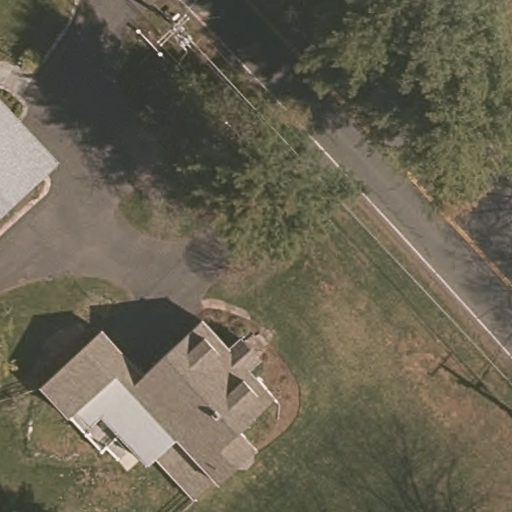DT: (125, 3, 218, 68)
